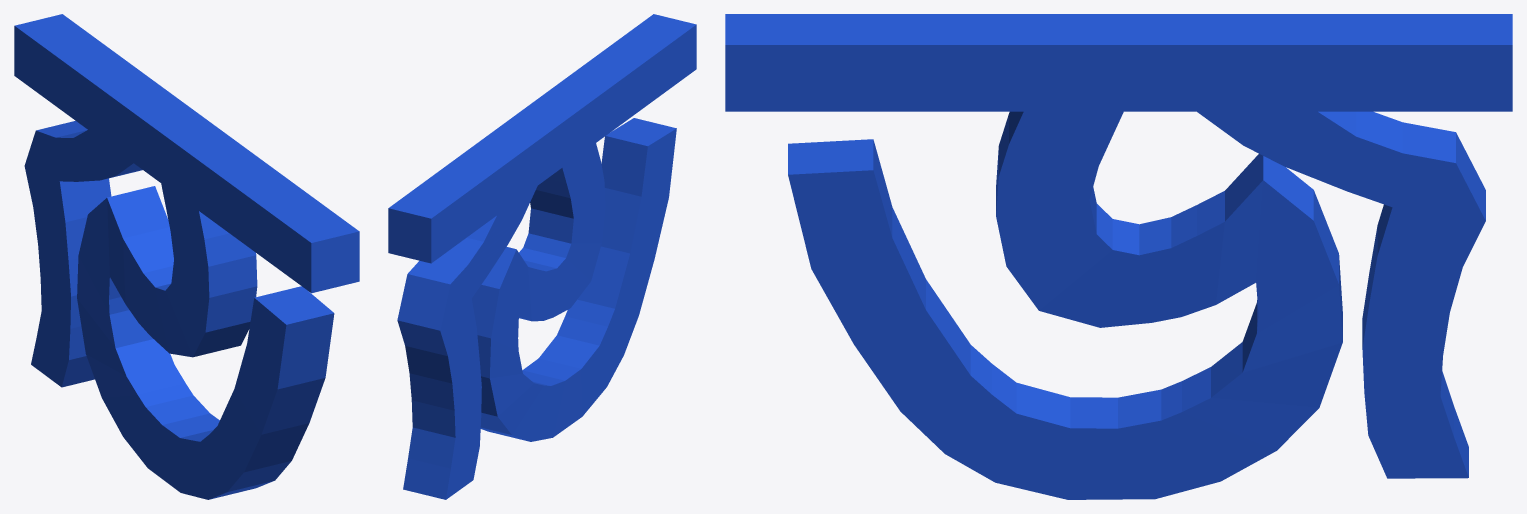
3 renders of one model, left to right at view 1: azimuth 30°, elevation 25°; view 2: azimuth 150°, elevation 25°; view 3: azimuth 270°, elevation 25°, orthographic. The views are drawn at different scales.
Parts seen in each view (by area): view 1: Cube; view 2: Cube; view 3: Cube.
Boxes of the visible parts, <box> form: Cube: <box>14,14,359,499</box>; Cube: <box>388,14,696,499</box>; Cube: <box>725,14,1512,499</box>.
Bounding box in the file's own units: 207 × 1370 × 2143.
